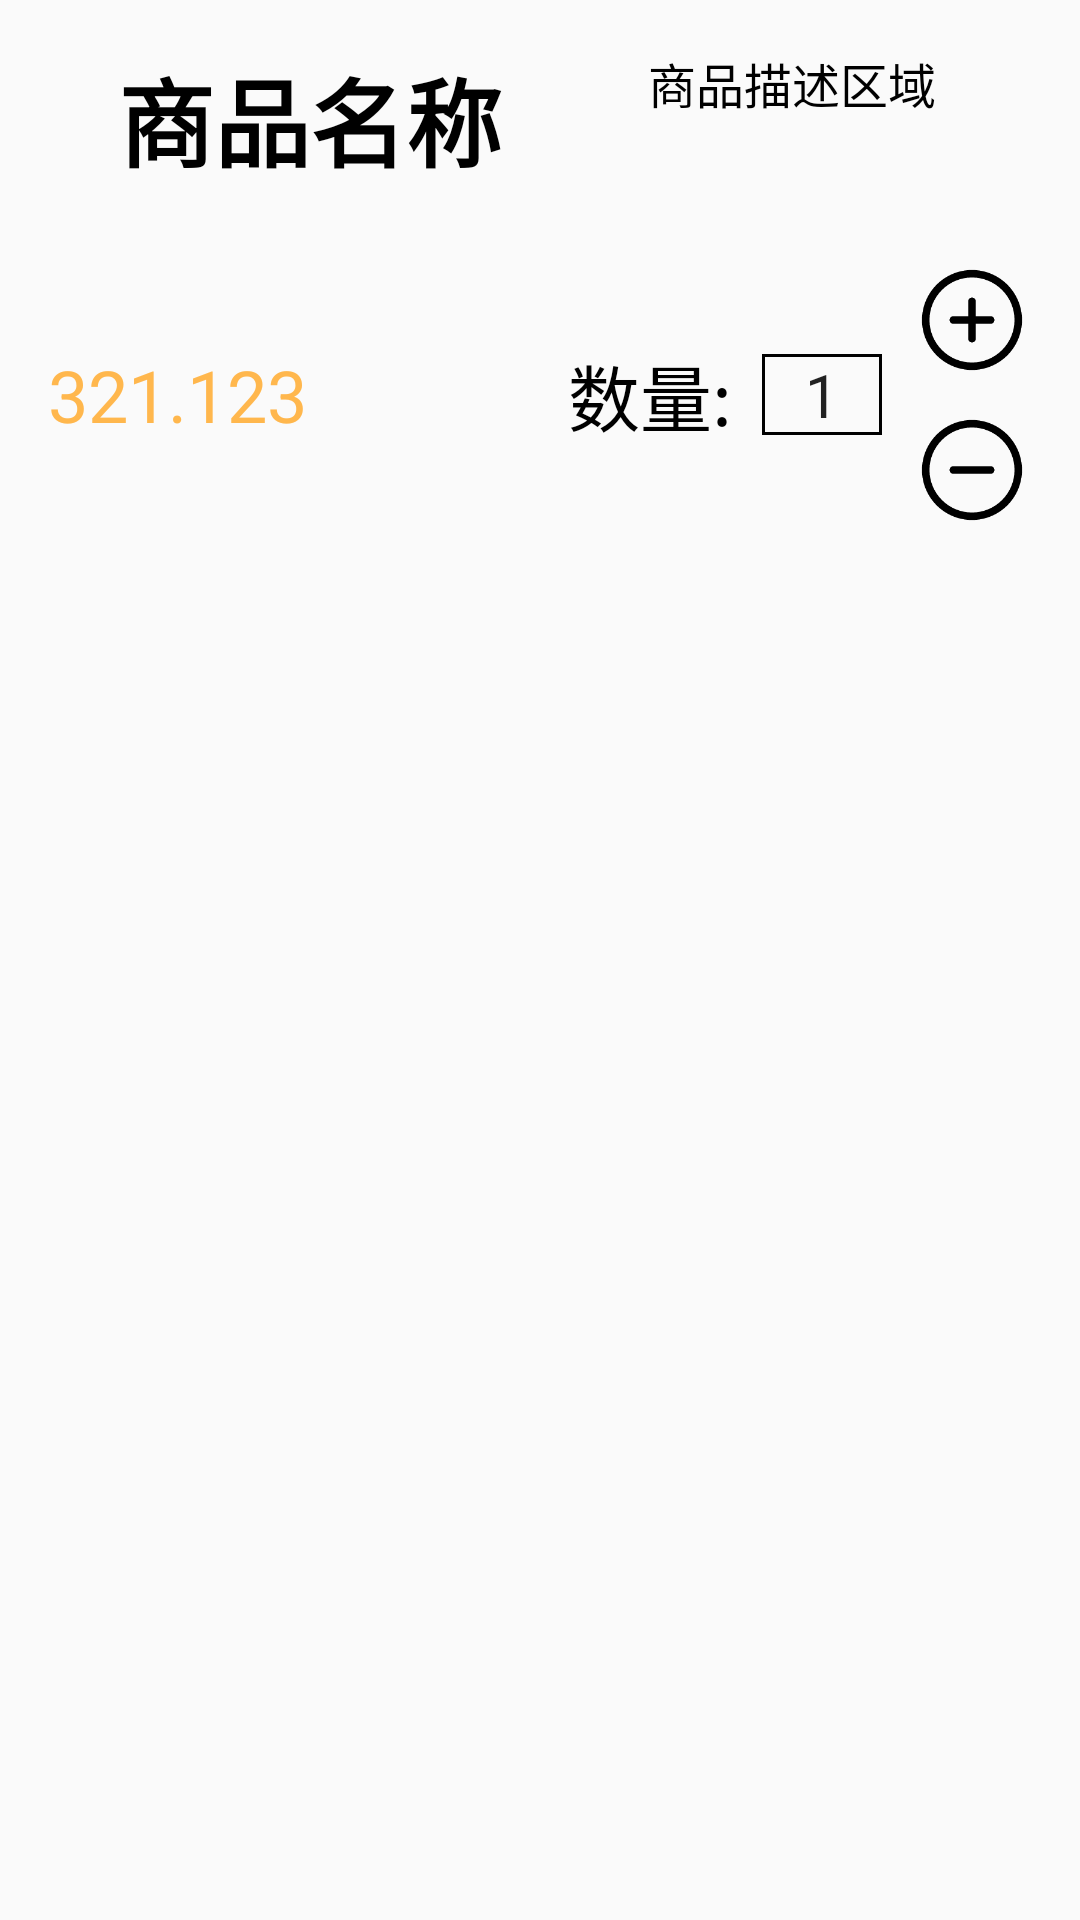

Screen size 1080w x 1920h. Icon name, then its box in pixels as (x1, y1, x2, y2):
jianshao: (922, 420, 1022, 520)
zengjia: (922, 270, 1022, 370)
